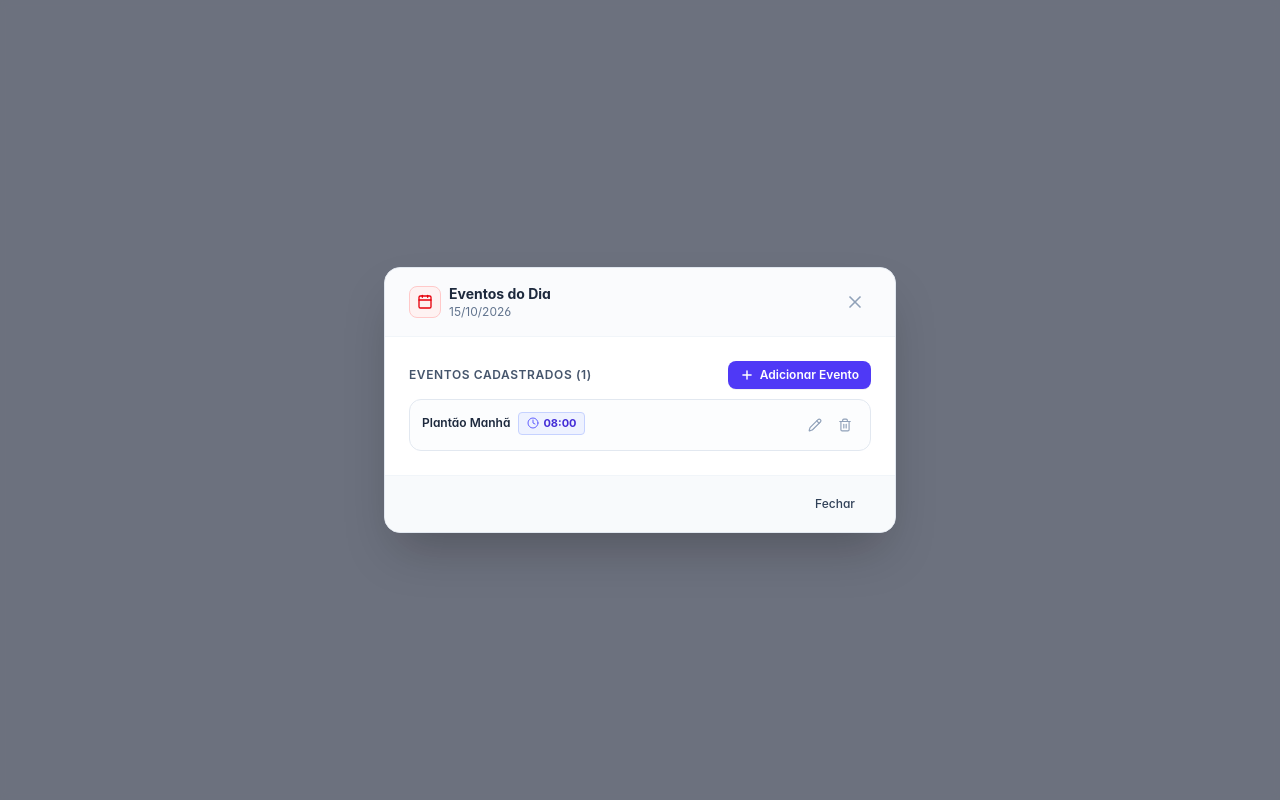
it: DayEventsModal › cancels an edit and closes the form
Click the button named "Editar evento Plantão Manhã".
click(815, 425)  # box x1=802 y1=412 x2=828 y2=438
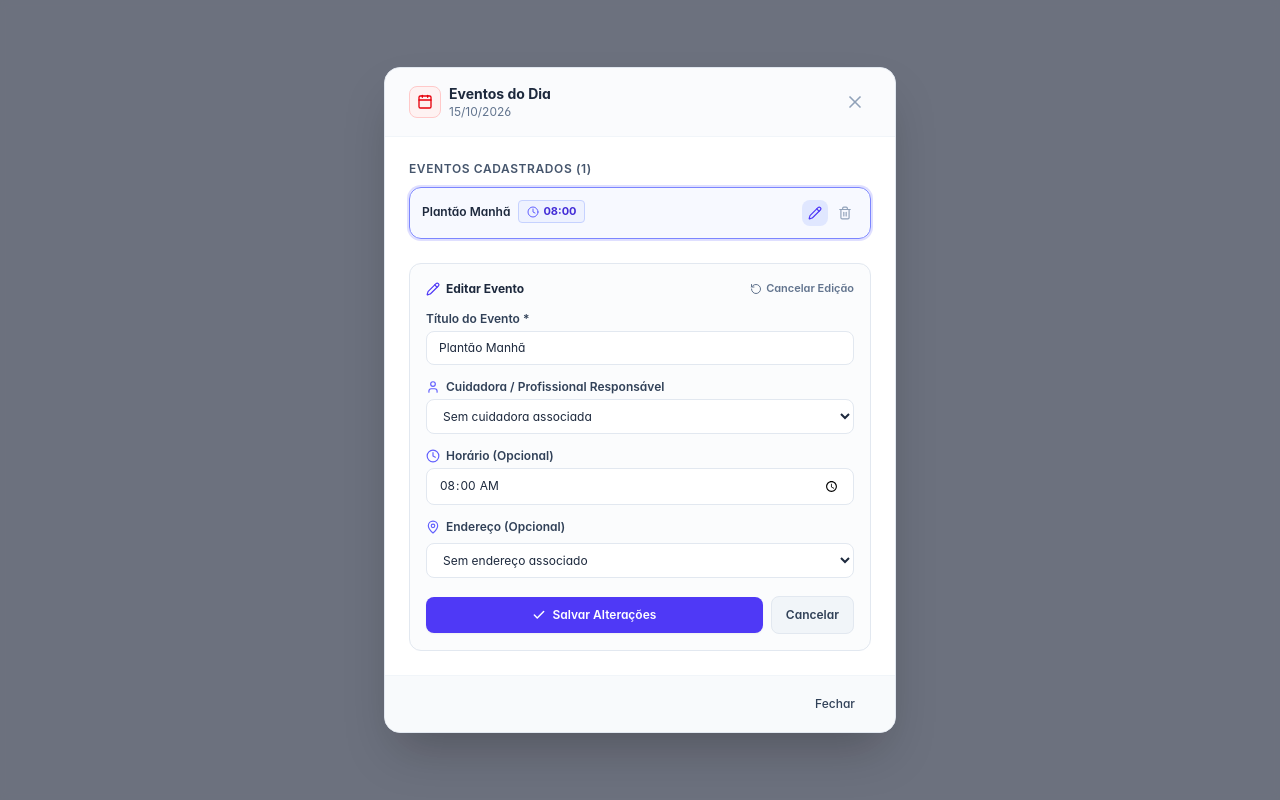
Now the text "Editar Evento" is shown, box x1=446 y1=281 x2=524 y2=297
Click the button "Cancelar Edição".
click(802, 289)  # box x1=750 y1=280 x2=854 y2=297
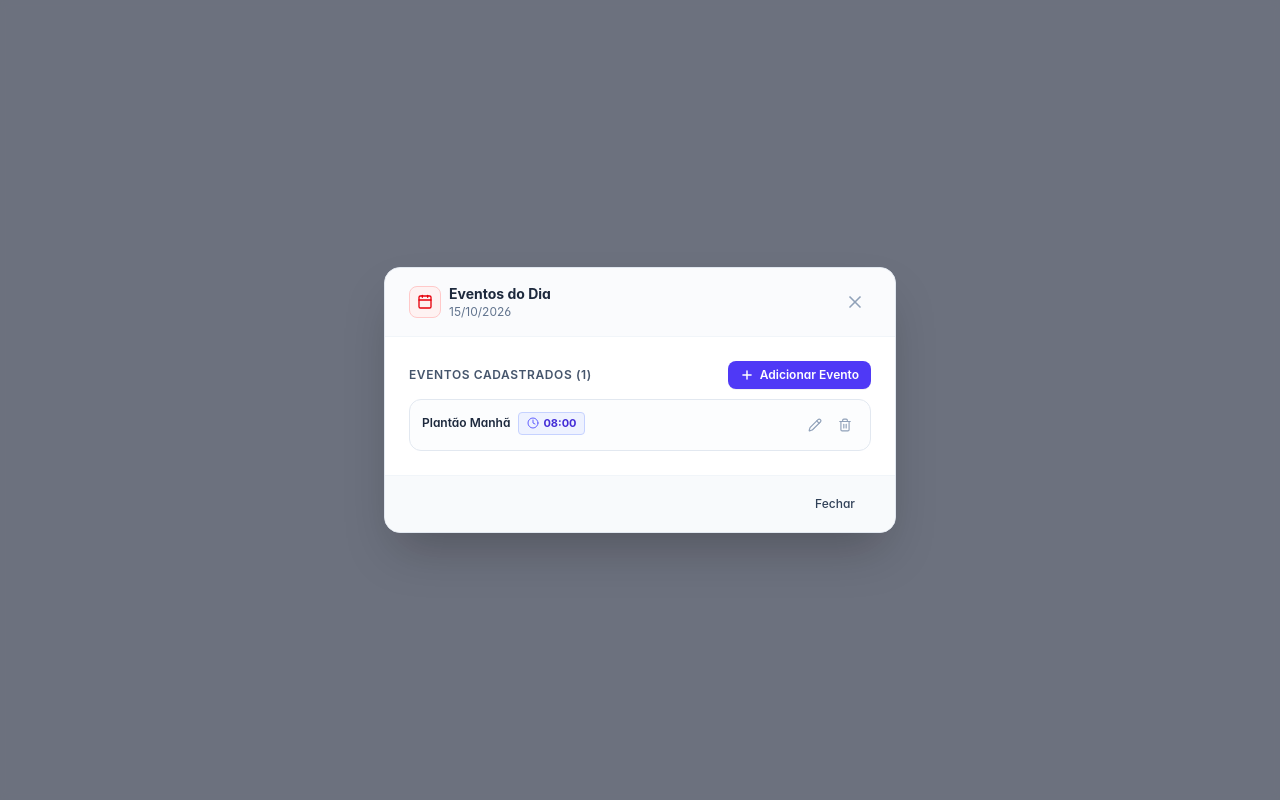
Now the text "Editar Evento" is gone
